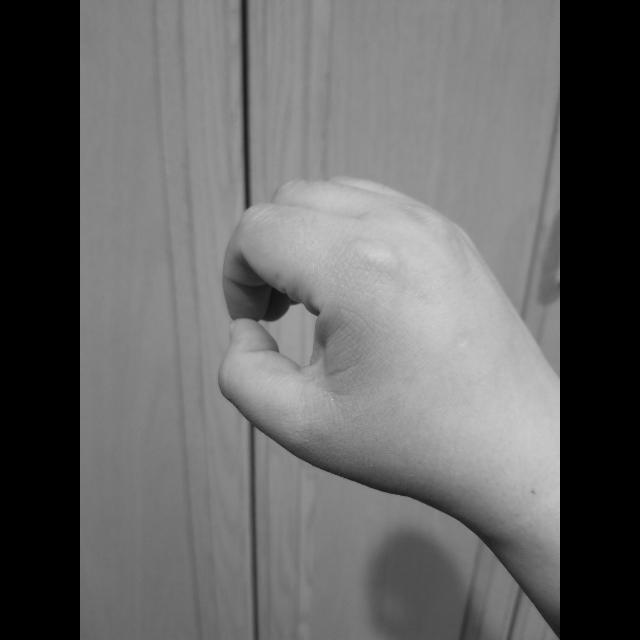O: (210, 169, 560, 513)
